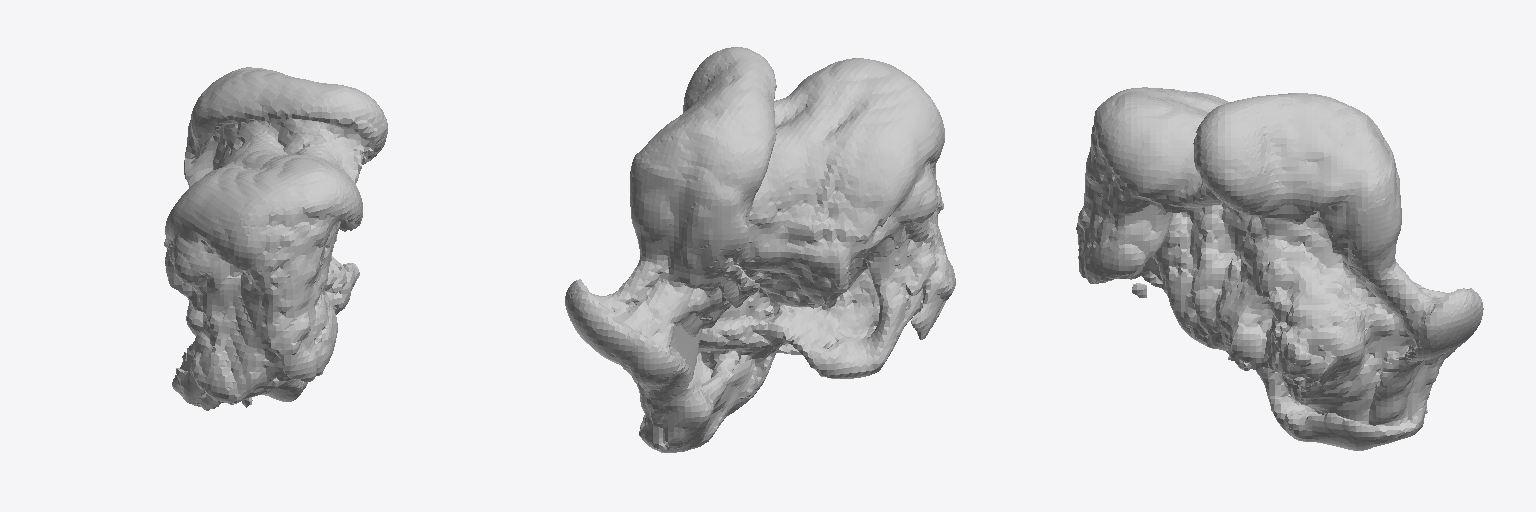
The model's file is Smoke.obj.
3 views of the same model, side by side, from view 1: azimuth 30°, elevation 25°; view 2: azimuth 150°, elevation 25°; view 3: azimuth 270°, elevation 25° (orthographic).
Visible parts, largest first — view 1: Smoke; view 2: Smoke; view 3: Smoke.
Boxes of the visible parts, box(x1,y1,x2,y2) form: Smoke: box(164, 67, 387, 410); Smoke: box(565, 47, 955, 452); Smoke: box(1076, 87, 1483, 450).
Size of the model in its own units: 12.81 by 17.49 by 18.55.